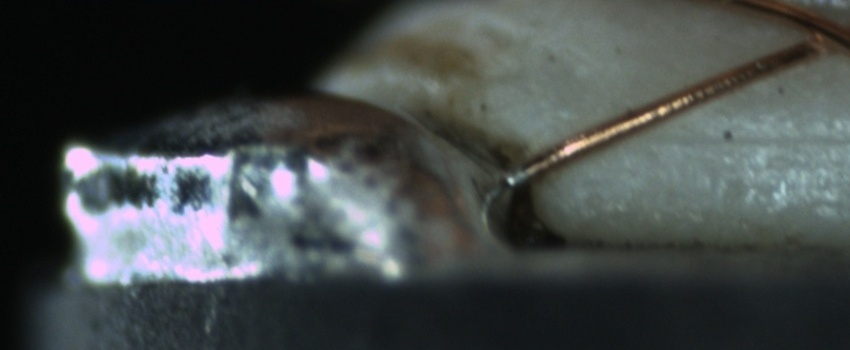CL: (777, 7, 849, 64)
DL: (627, 102, 847, 174)
TS: (502, 162, 532, 191)
